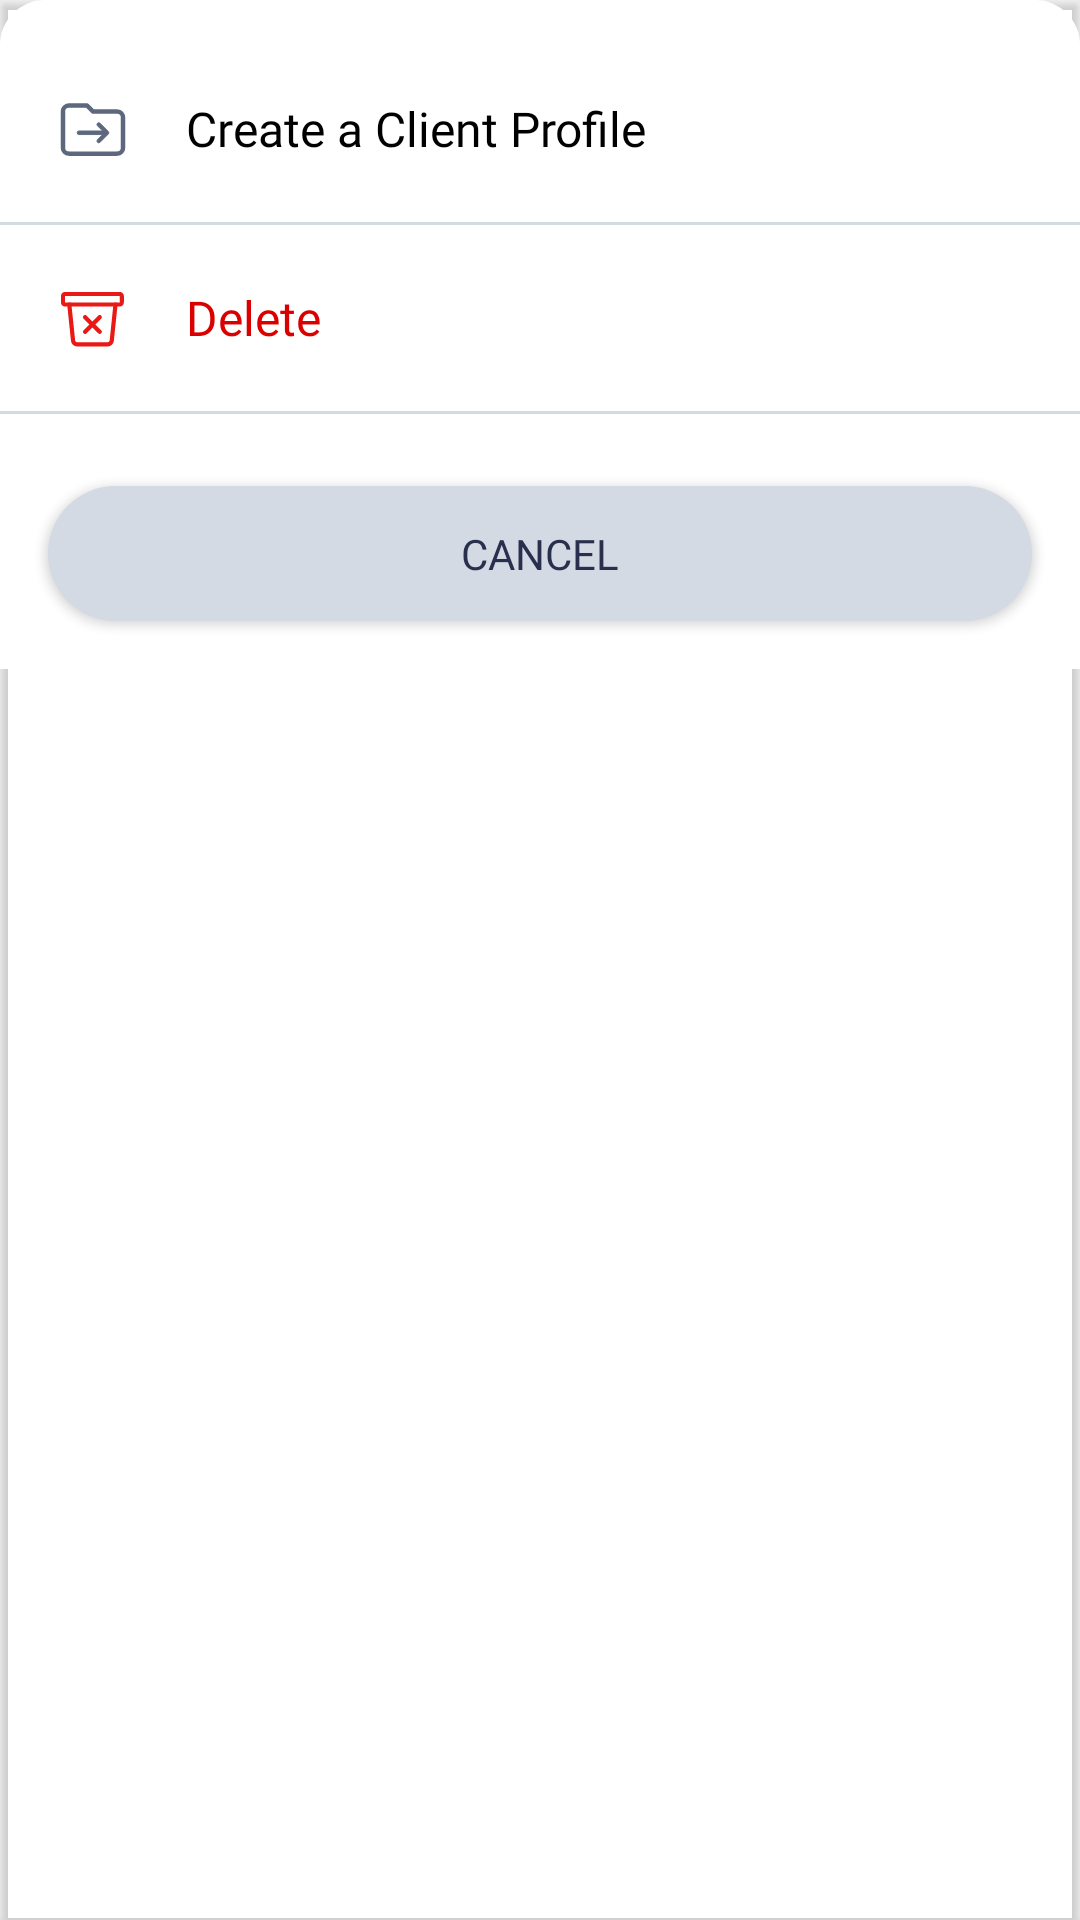

Icons on this 1080px×1920px Android screen, each with its box as (x1, y1, x2, y2):
move attachment: (60, 103, 126, 156)
